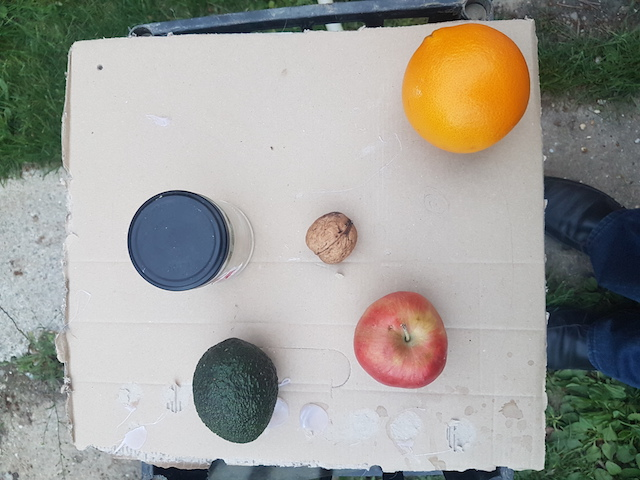apple: (350, 285, 454, 391)
avocado: (189, 329, 283, 446)
nut: (303, 210, 360, 265)
orange: (398, 22, 534, 156)
recipient: (121, 186, 260, 291)
